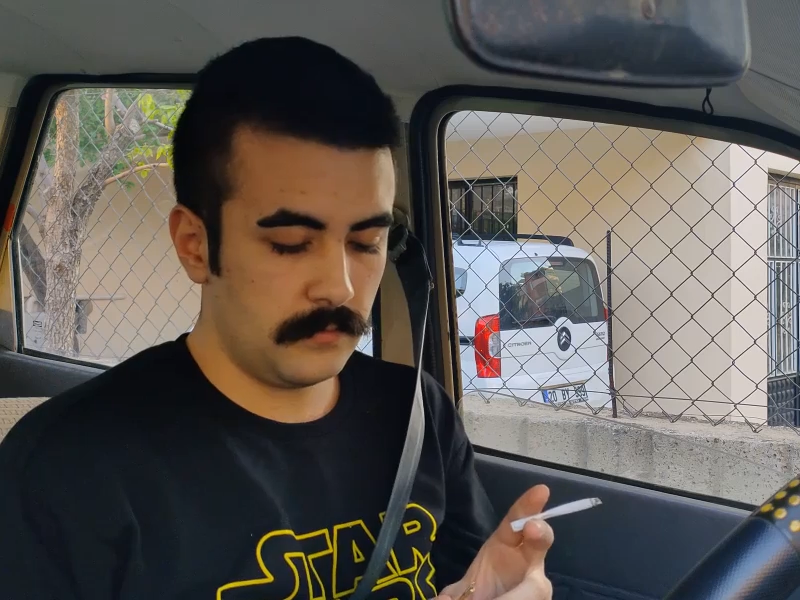sigara: (507, 493, 607, 534)
